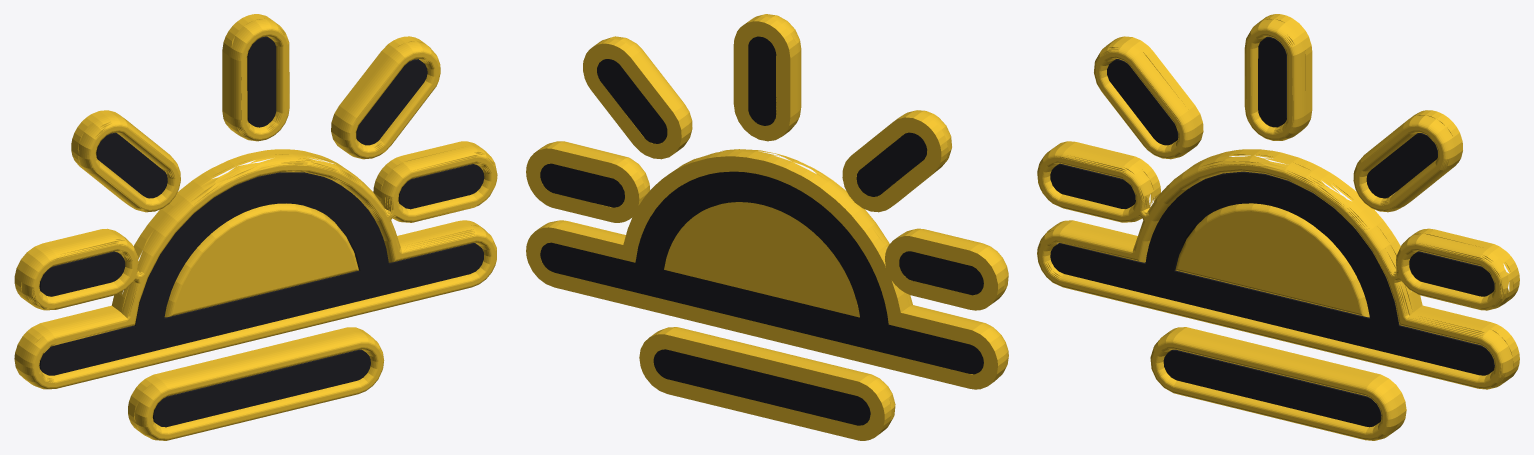
File: early_bird_t8.glb
3 views of the same model, side by side, from view 1: azimuth 30°, elevation 25°; view 2: azimuth 150°, elevation 25°; view 3: azimuth 330°, elevation 25° (orthographic).
Parts seen in each view (by area): view 1: mark, mark_channel; view 2: mark, mark_channel; view 3: mark, mark_channel.
Boxes of the visible parts, left/top/right/bottom form: mark: left=14, top=14, right=497, bottom=440; mark_channel: left=39, top=36, right=484, bottom=427; mark: left=526, top=14, right=1008, bottom=440; mark_channel: left=540, top=36, right=983, bottom=425; mark: left=1037, top=14, right=1519, bottom=440; mark_channel: left=1050, top=36, right=1494, bottom=427.
Bounding box in the file's own units: 0.45 × 0.3599 × 0.024.
